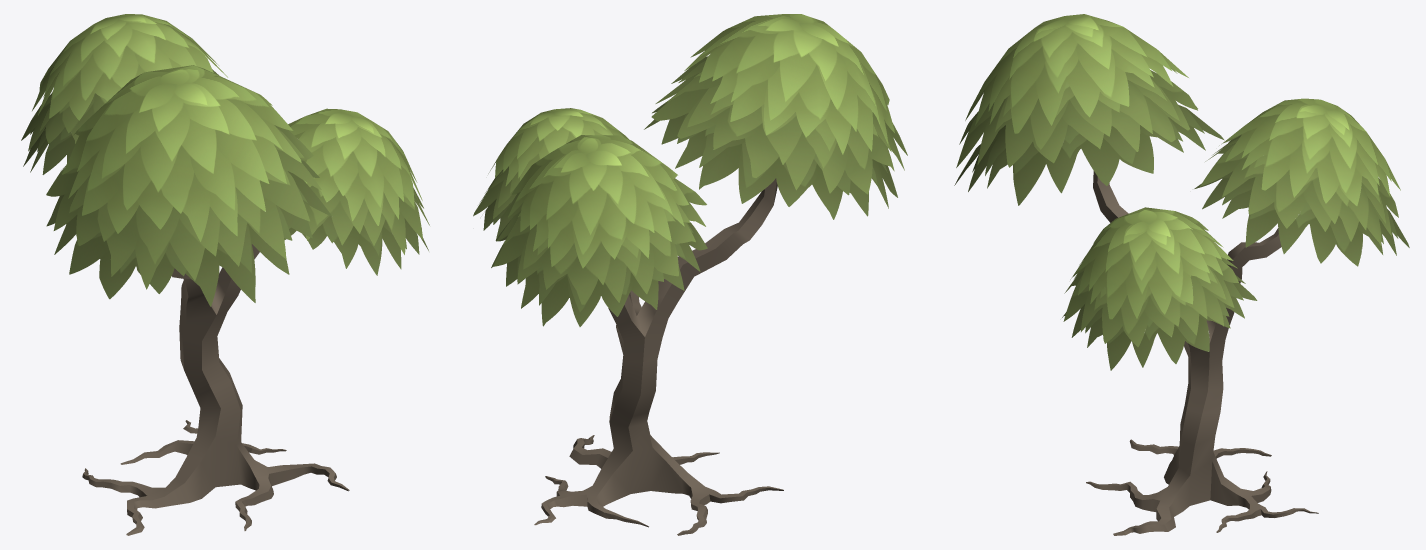
File: EnvFlora103_Tree.fbx
3 views of the same model, side by side, from view 1: azimuth 30°, elevation 25°; view 2: azimuth 150°, elevation 25°; view 3: azimuth 270°, elevation 25° (orthographic). The views are drawn at different scales.
Visible parts, largest first — view 1: EnvFlora101_TreeCrown, EnvFlora101_TreeTrunk; view 2: EnvFlora101_TreeCrown, EnvFlora101_TreeTrunk; view 3: EnvFlora101_TreeCrown, EnvFlora101_TreeTrunk.
Boxes of the visible parts, x1,y1,x2,y2 form: EnvFlora101_TreeCrown: (21,14,429,306); EnvFlora101_TreeTrunk: (82,244,349,535); EnvFlora101_TreeCrown: (473,14,907,326); EnvFlora101_TreeTrunk: (534,178,783,535); EnvFlora101_TreeCrown: (954,14,1409,370); EnvFlora101_TreeTrunk: (1086,171,1318,535).
Size of the model in its own units: 5.01 by 5.59 by 5.5.
